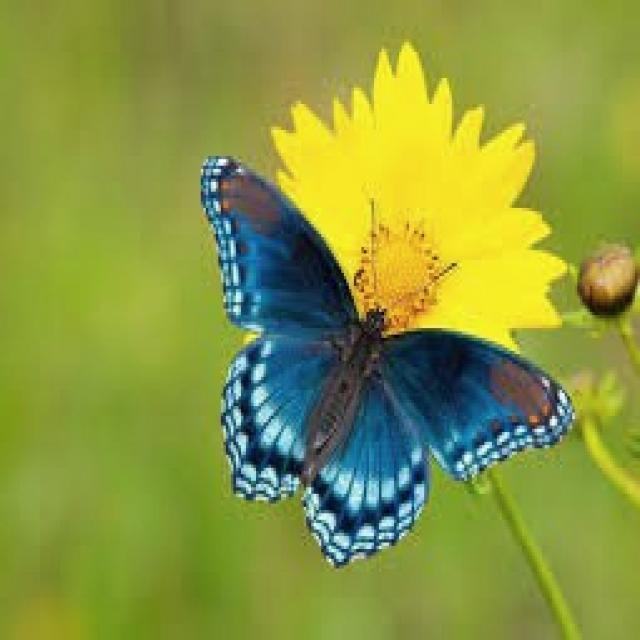butterfly: (201, 156, 570, 562)
